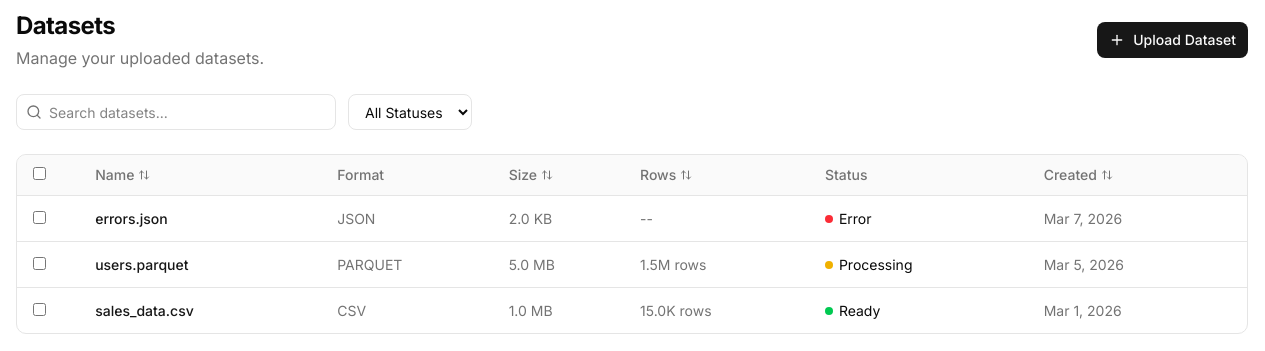
Test: DatasetsPage › status filter › filters datasets by status
Select "Error" in the dropdown with test id "status-filter" at (410, 112), box [348,94,472,130]
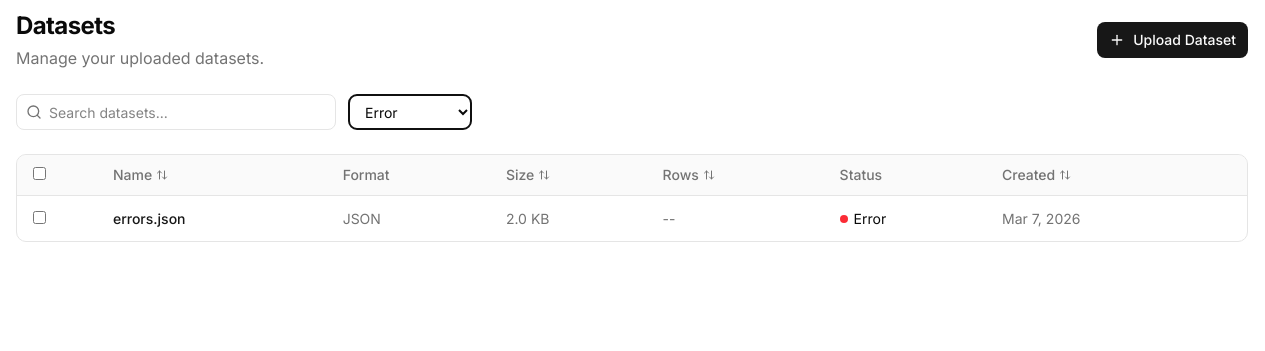
Expected: the link "errors.json" is shown, [113,210,186,226]
Expected: the number of rows with test id "dataset-row" is 1, [17,196,1247,241]
